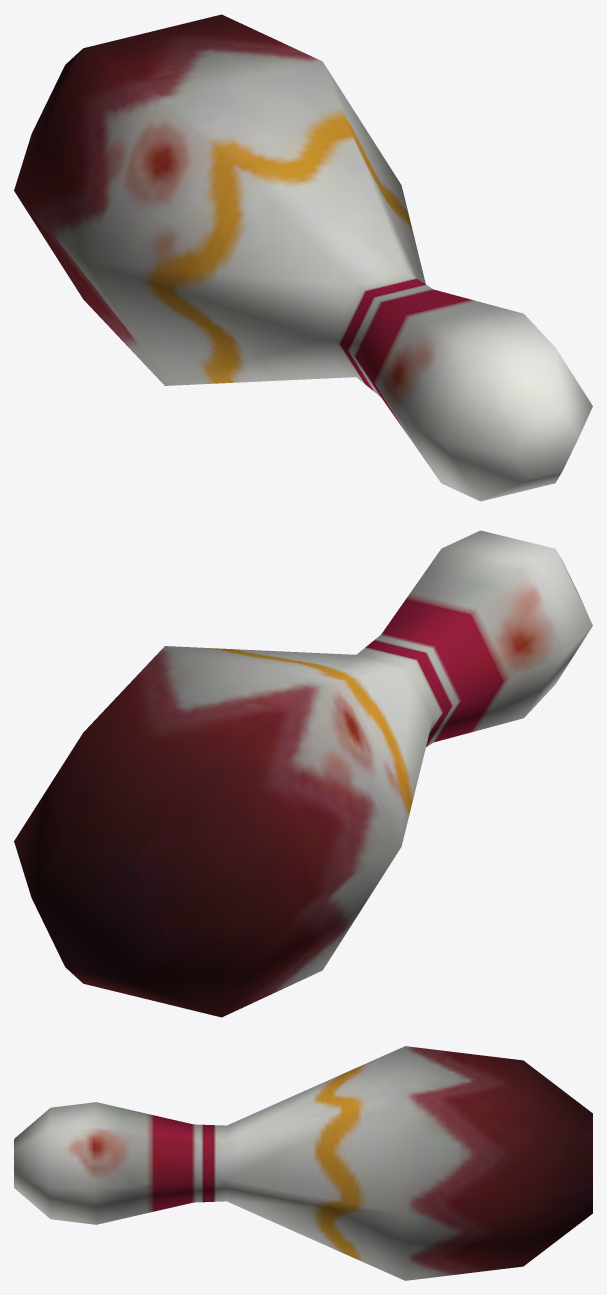
File: Bowling_pin_fa088c1a__Bowling_pin_799deb26_c1f257.obj
The picture shows the model from 3 angles, top to bottom: view 1: azimuth 30°, elevation 25°; view 2: azimuth 150°, elevation 25°; view 3: azimuth 270°, elevation 25°; orthographic projection. The views are drawn at different scales.
Bounding box in the file's own units: 0.1826 × 0.1581 × 0.4485.
1 material, 1 textured.
